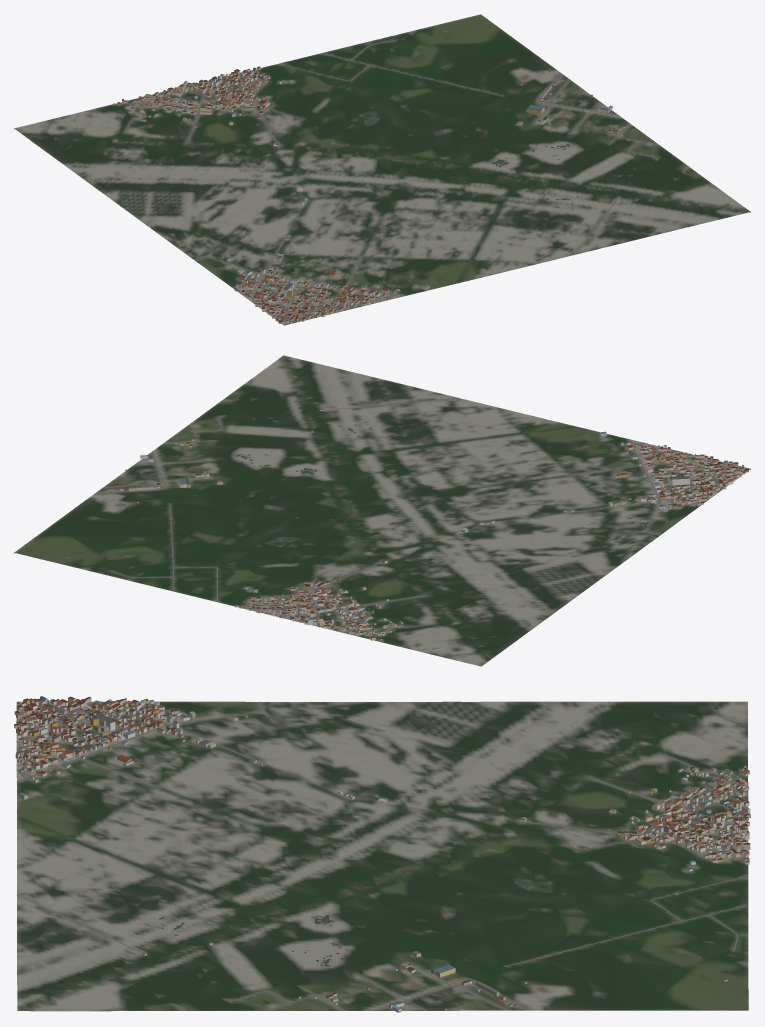
3 views of the same model, one above another, from view 1: azimuth 30°, elevation 25°; view 2: azimuth 150°, elevation 25°; view 3: azimuth 270°, elevation 25° (orthographic). The views are drawn at different scales.
Parts seen in each view (by area): view 1: ground, buildings, roads; view 2: ground, buildings, roads; view 3: ground, buildings, roads.
Boxes of the visible parts, x1=… form: ground: x1=14, y1=14, x2=750, y2=325; buildings: x1=113, y1=29, x2=628, y2=323; roads: x1=120, y1=39, x2=688, y2=325; ground: x1=14, y1=355, x2=750, y2=666; buildings: x1=66, y1=409, x2=748, y2=641; roads: x1=94, y1=398, x2=750, y2=641; ground: x1=16, y1=701, x2=748, y2=1011; buildings: x1=14, y1=696, x2=750, y2=1012; roads: x1=16, y1=701, x2=748, y2=1010.
Bounding box in the file's own units: 1416 × 20.71 × 1413.
